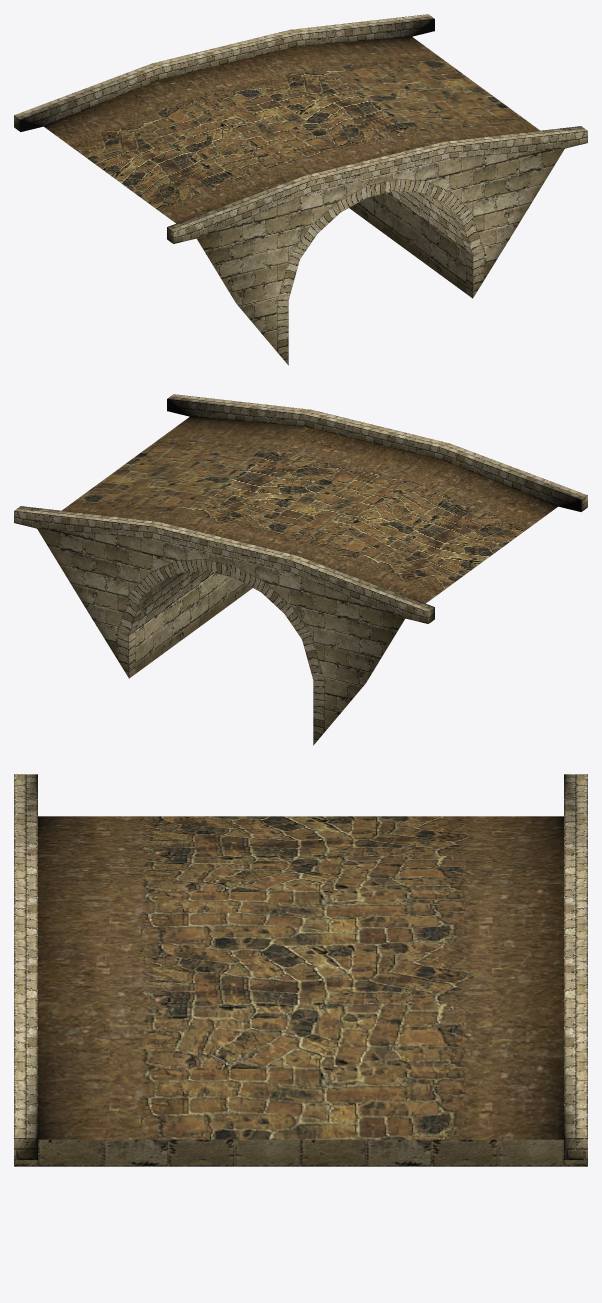
File: Mission12_StoneBridge.glb
The picture shows the model from 3 angles, top to bottom: view 1: azimuth 30°, elevation 25°; view 2: azimuth 150°, elevation 25°; view 3: azimuth 270°, elevation 25°; orthographic projection. The views are drawn at different scales.
Visible parts, largest first — view 1: MISSION12_STONEBRIDGE; view 2: MISSION12_STONEBRIDGE; view 3: MISSION12_STONEBRIDGE.
Boxes of the visible parts, x1,y1,x2,y2 form: MISSION12_STONEBRIDGE: (14, 14, 587, 365); MISSION12_STONEBRIDGE: (14, 394, 587, 745); MISSION12_STONEBRIDGE: (14, 774, 587, 1166).
Size of the model in its own units: 18 by 7.47 by 12.
5 materials, 5 textured.
